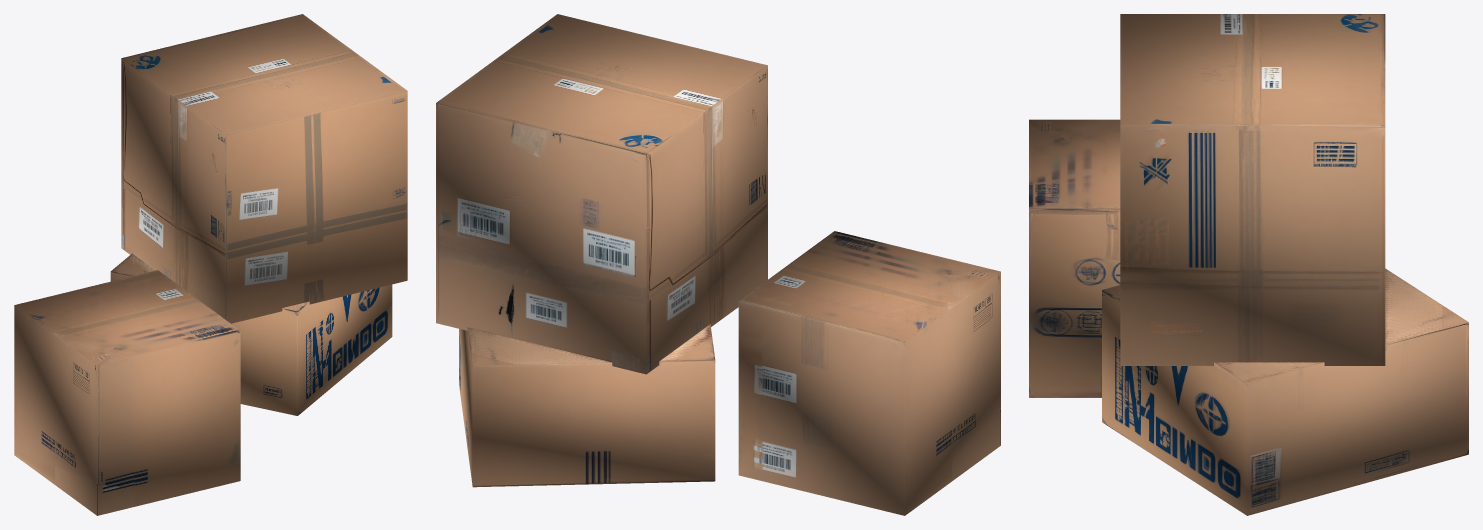
The model's file is CardBoardBox01.fbx.
3 renders of one model, left to right at view 1: azimuth 30°, elevation 25°; view 2: azimuth 150°, elevation 25°; view 3: azimuth 270°, elevation 25°, orthographic. The views are drawn at different scales.
Parts seen in each view (by area): view 1: Mesh_0.015; view 2: Mesh_0.015; view 3: Mesh_0.015.
Part boxes in pixels (left/top/right/bottom): Mesh_0.015: left=14, top=14, right=407, bottom=515; Mesh_0.015: left=436, top=14, right=1000, bottom=515; Mesh_0.015: left=1029, top=14, right=1468, bottom=515.
Bounding box in the file's own units: 59.18 × 46.63 × 46.79.
Materials: 1 (1 with a texture image).
